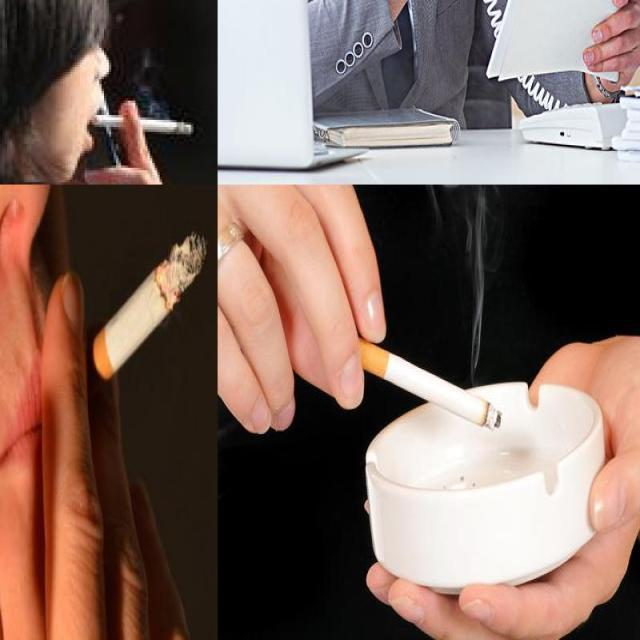smoking: (82, 230, 208, 398), (350, 322, 504, 440), (85, 105, 198, 142)
